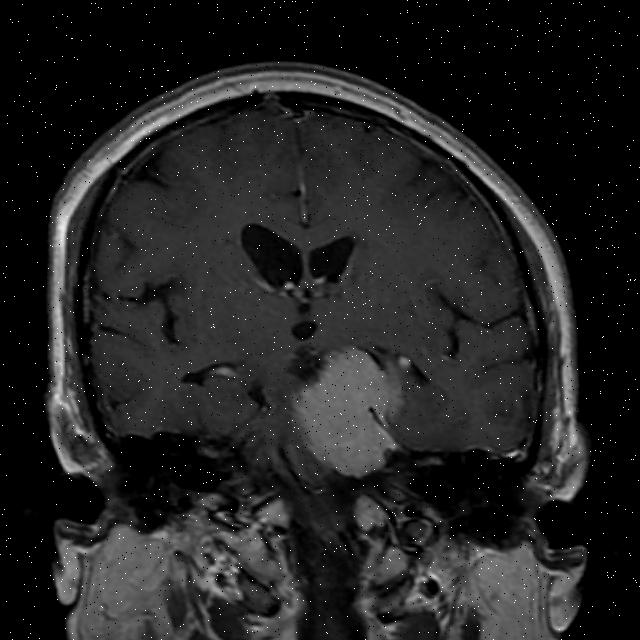Meningioma: (291, 341, 405, 483)
